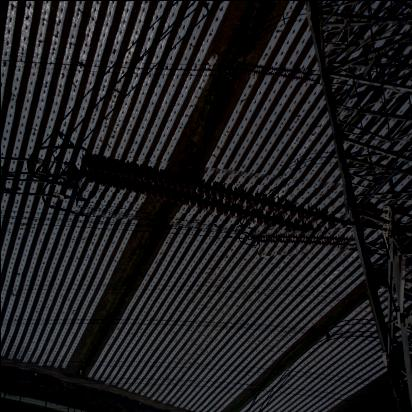insulator: (76, 160, 351, 238), (257, 229, 354, 255), (236, 64, 320, 82)
